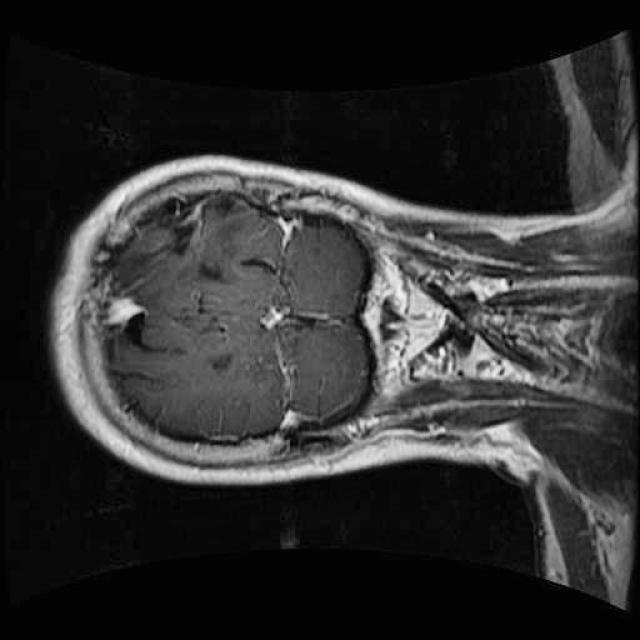Tumor: (84, 170, 282, 324)
